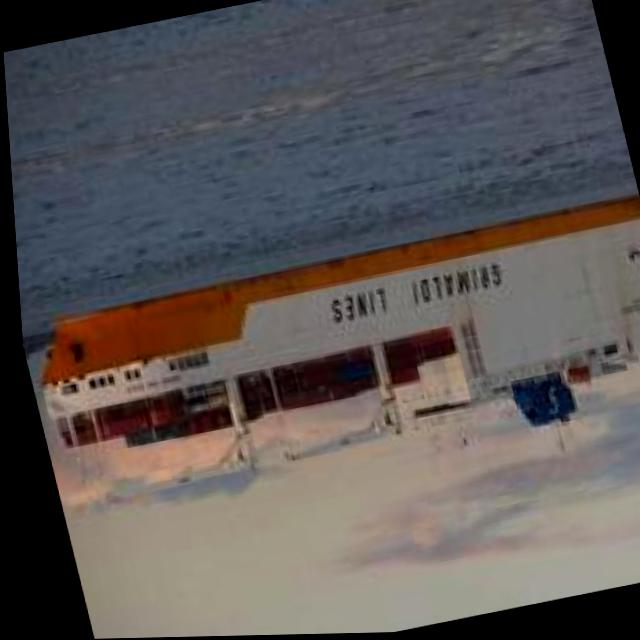ship2: (33, 198, 640, 494)
